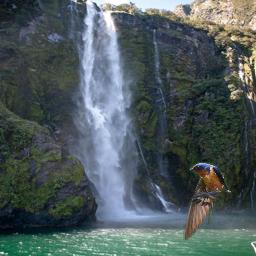Swallow: (183, 162, 232, 241)
